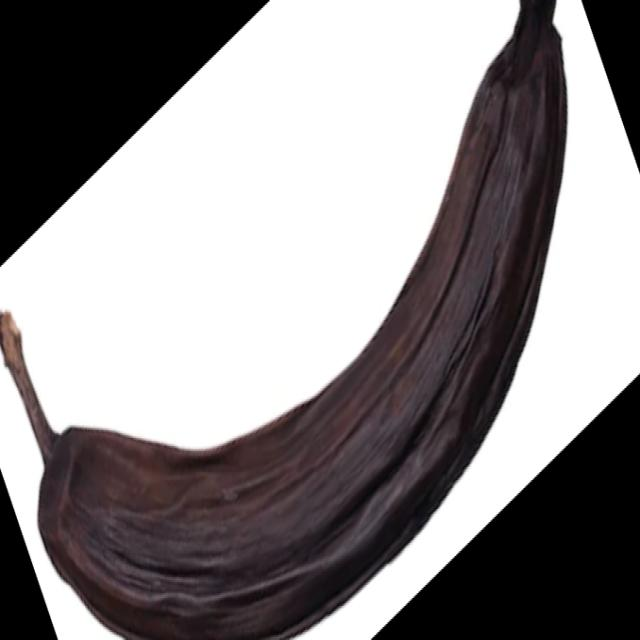Rotten: (1, 1, 568, 640)
